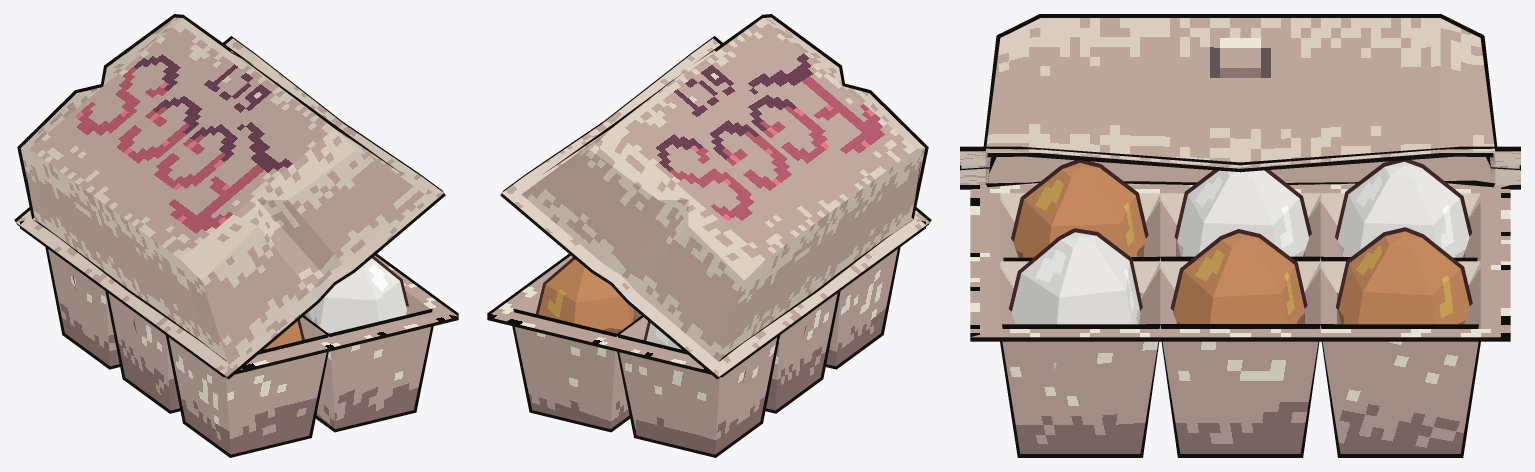
File: egg_carton.glb
3 views of the same model, side by side, from view 1: azimuth 30°, elevation 25°; view 2: azimuth 150°, elevation 25°; view 3: azimuth 270°, elevation 25° (orthographic). The views are drawn at different scales.
Parts seen in each view (by area): view 1: carton, carton_outline, egg.004; view 2: carton, carton_outline, egg.001; view 3: carton, carton_outline, egg.001, egg.004, egg, egg.003, egg.005, egg.002, egg_outlines.
Part boxes in pixels (<box>): carton: <box>16,17,458,454</box>; carton_outline: <box>14,14,458,457</box>; egg.004: <box>307,258,406,333</box>; carton: <box>487,17,929,454</box>; carton_outline: <box>487,14,931,457</box>; egg.001: <box>538,259,635,353</box>; carton: <box>960,18,1520,453</box>; carton_outline: <box>960,14,1520,457</box>; egg.001: <box>1338,231,1469,324</box>; egg.004: <box>1011,232,1140,369</box>; egg: <box>1173,233,1304,323</box>; egg.003: <box>1337,161,1469,257</box>; egg.005: <box>1013,163,1145,257</box>; egg.002: <box>1177,170,1308,256</box>; egg_outlines: <box>1009,160,1472,311</box>.
Bounding box in the file's own units: 2.44 × 2.73 × 3.5.
Materials: 3 (1 with a texture image).
